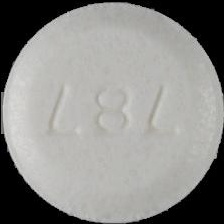42291-140: (0, 0, 224, 224)
